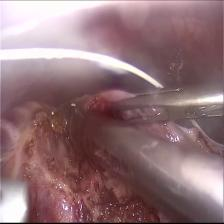Clipper: (56, 99, 96, 158)
Grasper: (104, 85, 224, 125)
